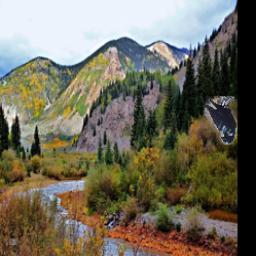Crow: (205, 96, 236, 145)
